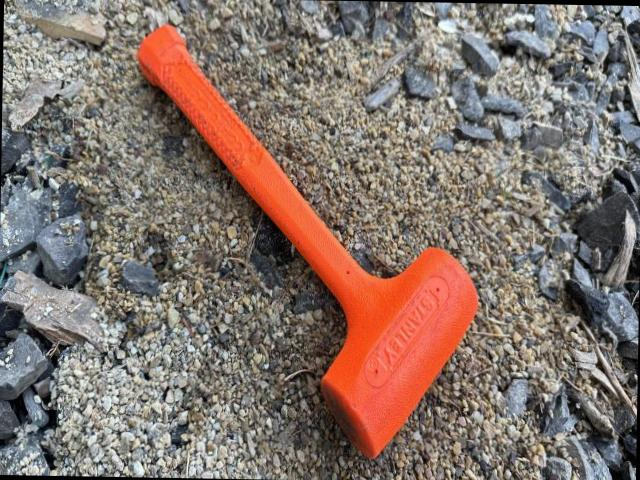hammer: (130, 24, 484, 462)
